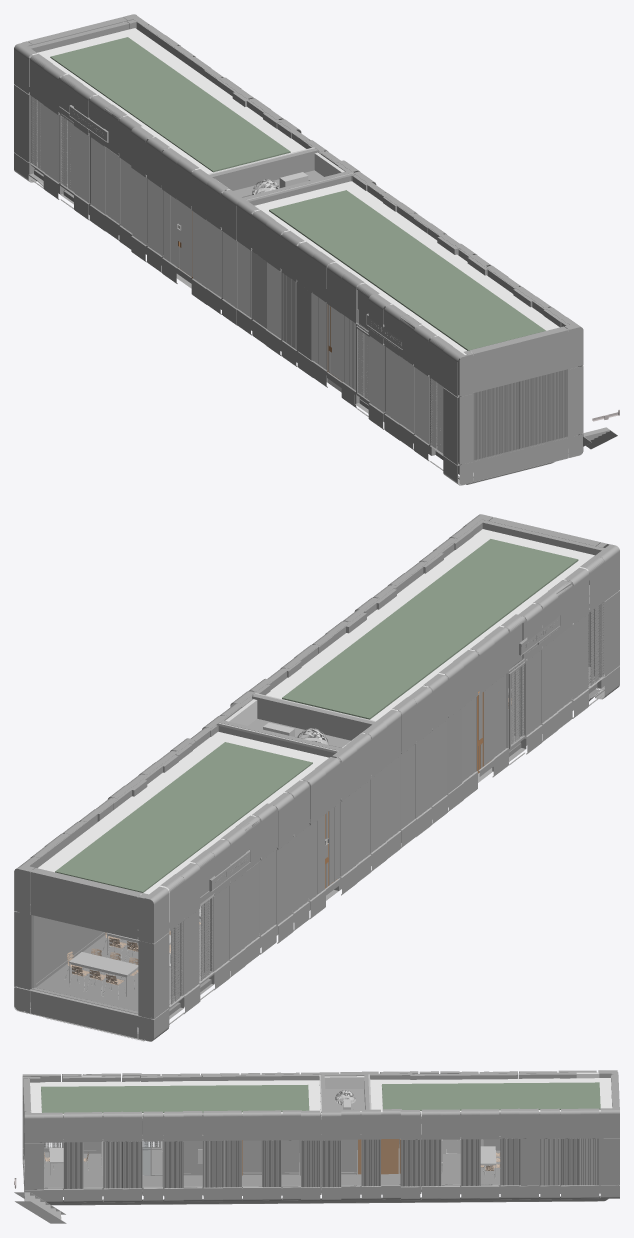
The picture shows the model from 3 angles, top to bottom: view 1: azimuth 30°, elevation 25°; view 2: azimuth 150°, elevation 25°; view 3: azimuth 270°, elevation 25°; orthographic projection. The views are drawn at different scales.
Parts seen in each view (by area): view 1: 413853_41_CWP_geanodiseerdaluminium_kopgevelgeneriek2836978, 1322781_BasicRoof27_RF_groendak_1003915282, 83835_BasicRoof27_RF_groendak_1002213051, 1322400_BasicRoof27_RF_grindbeddak_6039150041, 1322606_BasicRoof27_RF_grindbeddak_6039151961, 238536_BasicWall21_WA_isolatiewand_1992234536, 552534_41_CWP_geanodiseerdaluminium_aansluitinggeneriek32759, 421151_BasicWall21_WA_isolatiewand_199_dak3180537, 421681_41_CWP_geanodiseerdaluminium_aansluitinggeneriek32759, 412341_41_CWP_geanodiseerdaluminium_aansluitinggeneriek28344, 270635_41_CWP_geanodiseerdaluminium_aansluitinggeneriek28340, 89538_41_CWP_geanodiseerdaluminium_aansluitinggeneriek221306 (+29 smaller); view 2: 1322781_BasicRoof27_RF_groendak_1003915282, 83835_BasicRoof27_RF_groendak_1002213051, 90504_41_CWP_geanodiseerdaluminium_kopgevelgeneriek2213119, 1322400_BasicRoof27_RF_grindbeddak_6039150041, 1322606_BasicRoof27_RF_grindbeddak_6039151961, 238536_BasicWall21_WA_isolatiewand_1992234536, 44543_Floor43_FL_vloerafwerking_602212782, 421007_BasicWall21_WA_isolatiewand_199_dak3180259, 239349_BasicWall22_WA_lichtescheidingswand_252244577, 412341_41_CWP_geanodiseerdaluminium_aansluitinggeneriek28344, 270635_41_CWP_geanodiseerdaluminium_aansluitinggeneriek28340, 270572_41_CWP_geanodiseerdaluminium_aansluitinggeneriek28340 (+33 smaller); view 3: 1322781_BasicRoof27_RF_groendak_1003915282, 83835_BasicRoof27_RF_groendak_1002213051, 44543_Floor43_FL_vloerafwerking_602212782, 239250_BasicWall21_WA_isolatiewand_1992244481, 1322400_BasicRoof27_RF_grindbeddak_6039150041, 79674_41_CWP_geanodiseerdaluminium_aansluitinggeneriek221292, 95274_skirt1skirt2213816, 47709_BasicWall22_WA_metalstud_255025_1002212792, 96212_41_CWP_geanodiseerdaluminium_aansluitinggeneriek221554, 77345_41_CWP_geanodiseerdaluminium_aansluitinggeneriek221286, 1322606_BasicRoof27_RF_grindbeddak_6039151961, 78572_41_CWP_geanodiseerdaluminium_aansluitinggeneriek221290 (+43 smaller).
Boxes of the visible parts, box(x1,y1,x2,y2) form: 413853_41_CWP_geanodiseerdaluminium_kopgevelgeneriek2836978: box(459, 327, 582, 484); 1322781_BasicRoof27_RF_groendak_1003915282: box(269, 190, 545, 350); 83835_BasicRoof27_RF_groendak_1002213051: box(50, 37, 290, 172); 1322400_BasicRoof27_RF_grindbeddak_6039150041: box(254, 181, 559, 354); 1322606_BasicRoof27_RF_grindbeddak_6039151961: box(32, 28, 305, 173); 238536_BasicWall21_WA_isolatiewand_1992234536: box(250, 211, 311, 362); 552534_41_CWP_geanodiseerdaluminium_aansluitinggeneriek32759: box(43, 64, 66, 199); 421151_BasicWall21_WA_isolatiewand_199_dak3180537: box(209, 148, 319, 190); 421681_41_CWP_geanodiseerdaluminium_aansluitinggeneriek32759: box(14, 43, 37, 182); 412341_41_CWP_geanodiseerdaluminium_aansluitinggeneriek28344: box(443, 346, 466, 485); 270635_41_CWP_geanodiseerdaluminium_aansluitinggeneriek28340: box(131, 126, 153, 262); 89538_41_CWP_geanodiseerdaluminium_aansluitinggeneriek221306: box(206, 178, 228, 314); 1322781_BasicRoof27_RF_groendak_1003915282: box(282, 539, 578, 719); 83835_BasicRoof27_RF_groendak_1002213051: box(55, 742, 312, 893); 90504_41_CWP_geanodiseerdaluminium_kopgevelgeneriek2213119: box(14, 868, 154, 1041); 1322400_BasicRoof27_RF_grindbeddak_6039150041: box(266, 529, 594, 720); 1322606_BasicRoof27_RF_grindbeddak_6039151961: box(38, 731, 328, 894); 238536_BasicWall21_WA_isolatiewand_1992234536: box(398, 674, 461, 842); 44543_Floor43_FL_vloerafwerking_602212782: box(36, 667, 594, 1011); 421007_BasicWall21_WA_isolatiewand_199_dak3180259: box(252, 694, 375, 740); 239349_BasicWall22_WA_lichtescheidingswand_252244577: box(36, 916, 106, 987); 412341_41_CWP_geanodiseerdaluminium_aansluitinggeneriek28344: box(594, 544, 619, 699); 270635_41_CWP_geanodiseerdaluminium_aansluitinggeneriek28340: box(269, 793, 293, 943); 270572_41_CWP_geanodiseerdaluminium_aansluitinggeneriek28340: box(285, 780, 309, 930); 1322781_BasicRoof27_RF_groendak_1003915282: box(41, 1085, 309, 1113); 83835_BasicRoof27_RF_groendak_1002213051: box(382, 1082, 600, 1110); 44543_Floor43_FL_vloerafwerking_602212782: box(44, 1148, 500, 1189); 239250_BasicWall21_WA_isolatiewand_1992244481: box(521, 1111, 600, 1193); 1322400_BasicRoof27_RF_grindbeddak_6039150041: box(30, 1080, 321, 1118); 79674_41_CWP_geanodiseerdaluminium_aansluitinggeneriek221292: box(600, 1072, 619, 1198); 95274_skirt1skirt2213816: box(48, 1196, 608, 1205); 47709_BasicWall22_WA_metalstud_255025_1002212792: box(242, 1122, 441, 1174); 96212_41_CWP_geanodiseerdaluminium_aansluitinggeneriek221554: box(23, 1077, 43, 1200); 77345_41_CWP_geanodiseerdaluminium_aansluitinggeneriek221286: box(400, 1110, 420, 1200); 1322606_BasicRoof27_RF_grindbeddak_6039151961: box(370, 1078, 612, 1117); 78572_41_CWP_geanodiseerdaluminium_aansluitinggeneriek221290: box(421, 1109, 441, 1199).
Size of the model in its own units: 6.48 by 5.27 by 29.3.
